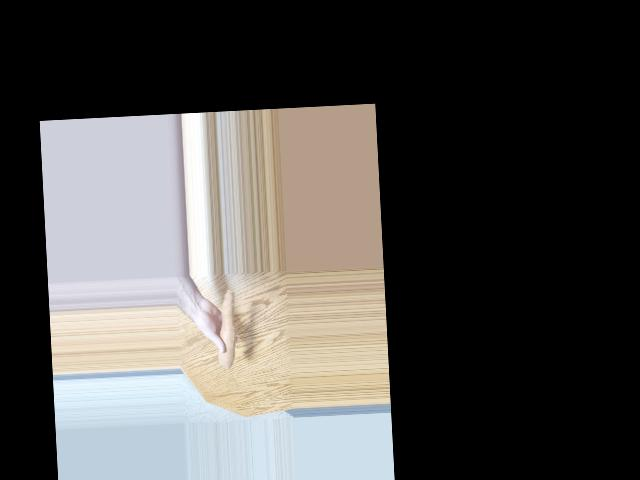sweet_potato: (217, 286, 239, 367)
